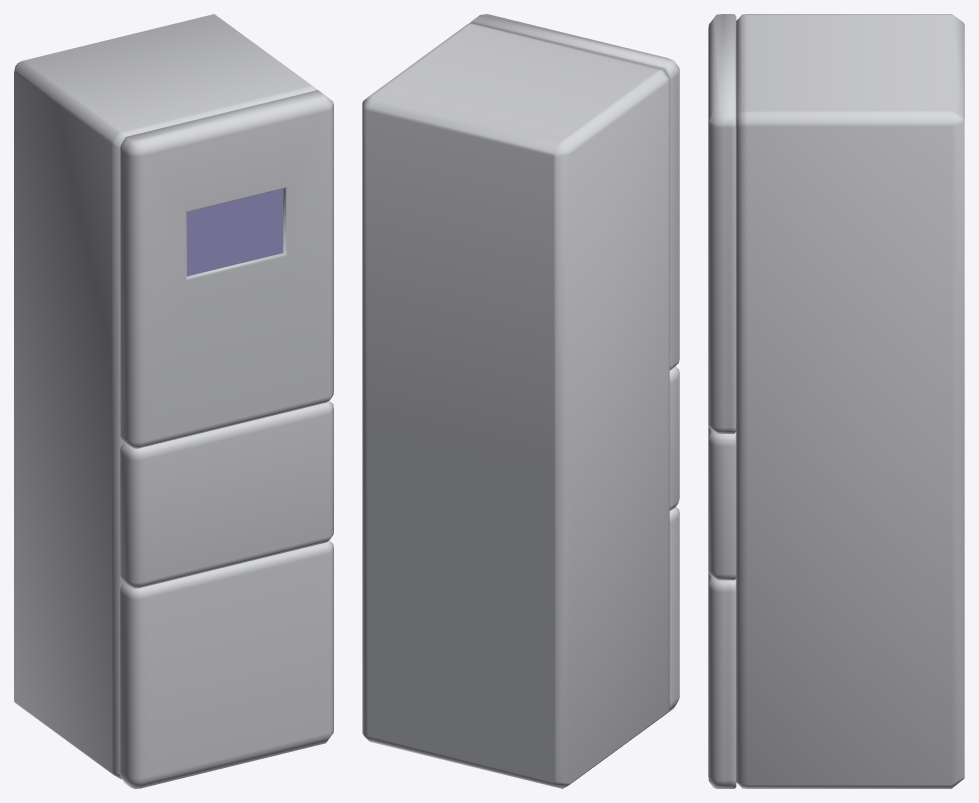
3 renders of one model, left to right at view 1: azimuth 30°, elevation 25°; view 2: azimuth 150°, elevation 25°; view 3: azimuth 270°, elevation 25°, orthographic. The views are drawn at different scales.
Parts seen in each view (by area): view 1: KK28F89TI; view 2: KK28F89TI; view 3: KK28F89TI.
Boxes of the visible parts, x1,y1,x2,y2 form: KK28F89TI: [14, 14, 333, 788]; KK28F89TI: [362, 14, 679, 788]; KK28F89TI: [708, 14, 964, 788].
Size of the model in its own units: 64 by 65.2 by 190.
